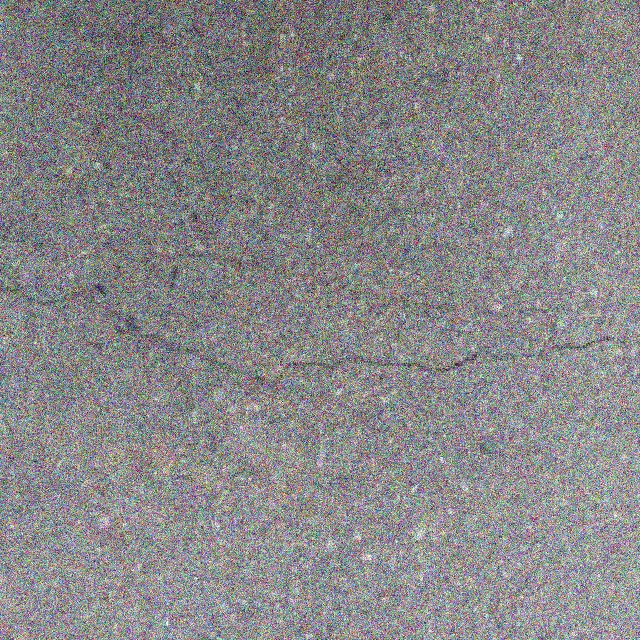SurfaceCrack: (2, 250, 640, 422)
